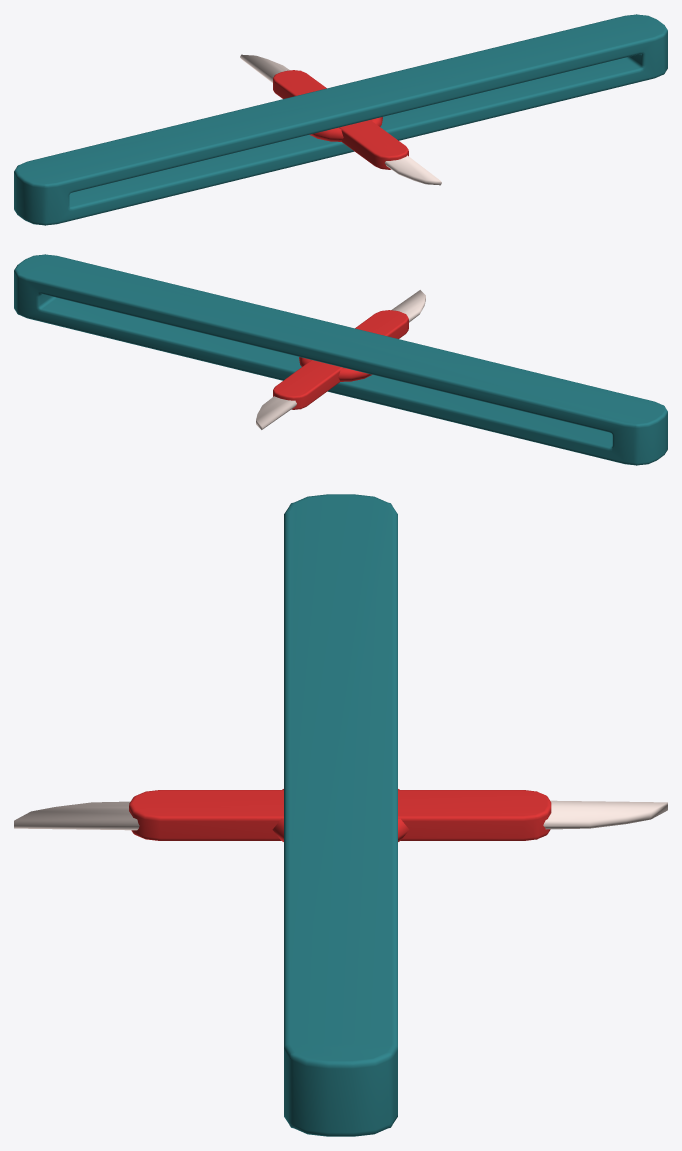
File: Cutter6.fbx
3 views of the same model, one above another, from view 1: azimuth 30°, elevation 25°; view 2: azimuth 150°, elevation 25°; view 3: azimuth 270°, elevation 25° (orthographic). The views are drawn at different scales.
Visible parts, largest first — view 1: Cube.002, Cube.003, Cylinder.013; view 2: Cube.002, Cube.003, Cylinder.013; view 3: Cube.002, Cube.003, Cylinder.013.
Part boxes in pixels (bbox=[...]): Cube.002: bbox=[14, 14, 667, 225]; Cube.003: bbox=[273, 70, 408, 169]; Cylinder.013: bbox=[240, 54, 441, 185]; Cube.002: bbox=[14, 254, 667, 465]; Cube.003: bbox=[273, 310, 408, 409]; Cylinder.013: bbox=[256, 290, 425, 429]; Cube.002: bbox=[284, 494, 397, 1136]; Cube.003: bbox=[129, 790, 551, 840]; Cylinder.013: bbox=[14, 789, 667, 841].
Bounding box in the file's own units: 8.03 × 0.4908 × 3.89.
